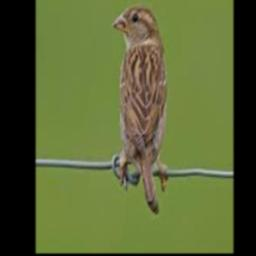Sparrow: (112, 2, 166, 213)
